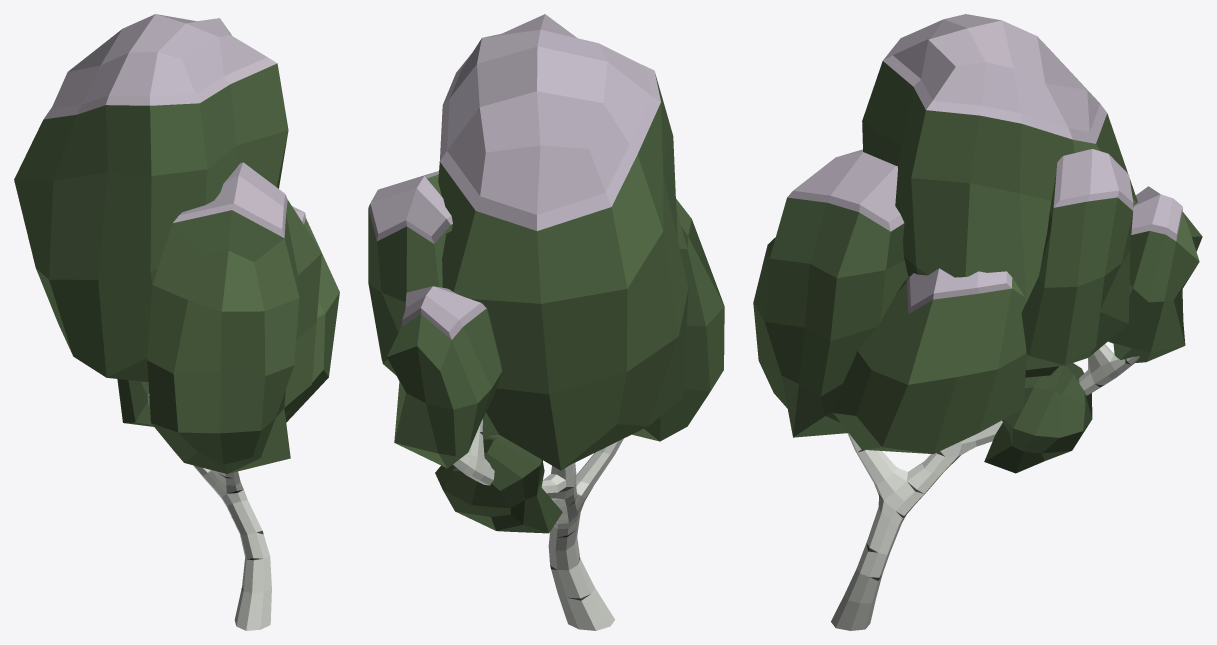
File: birchtree_snow.glb
3 renders of one model, left to right at view 1: azimuth 30°, elevation 25°; view 2: azimuth 150°, elevation 25°; view 3: azimuth 270°, elevation 25°, orthographic. The views are drawn at different scales.
Visible parts, largest first — view 1: BirchTree_Snow_1; view 2: BirchTree_Snow_1; view 3: BirchTree_Snow_1.
Boxes of the visible parts, x1=… form: BirchTree_Snow_1: x1=14, y1=14, x2=339, y2=630; BirchTree_Snow_1: x1=368, y1=14, x2=724, y2=630; BirchTree_Snow_1: x1=753, y1=14, x2=1202, y2=630.
Bounding box in the file's own units: 1.7 × 3.59 × 2.48.
